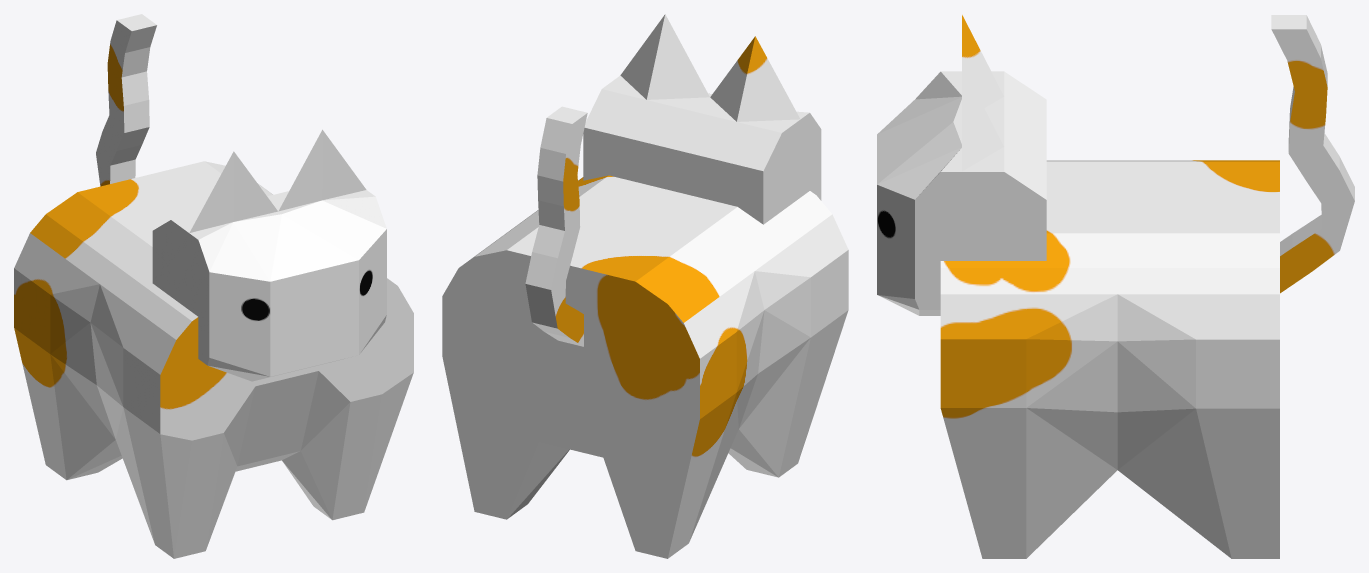
The model's file is neko.obj.
3 views of the same model, side by side, from view 1: azimuth 30°, elevation 25°; view 2: azimuth 150°, elevation 25°; view 3: azimuth 270°, elevation 25° (orthographic). The views are drawn at different scales.
Visible parts, largest first — view 1: 立方体.001; view 2: 立方体.001; view 3: 立方体.001.
Boxes of the visible parts, bbox=[...] form: 立方体.001: bbox=[14, 14, 413, 558]; 立方体.001: bbox=[442, 14, 848, 558]; 立方体.001: bbox=[877, 15, 1354, 558].
Size of the model in its own units: 1.01 by 1.59 by 1.43.
2 materials, 2 textured.
